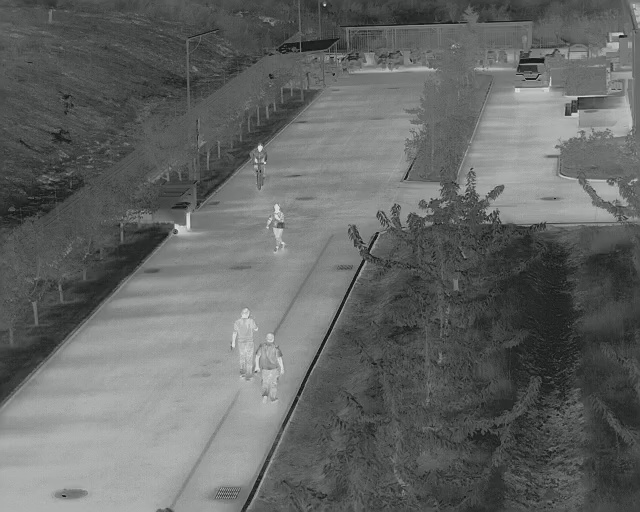NonMotorVehicle: (251, 143, 268, 191)
person: (231, 307, 256, 378), (260, 334, 282, 405), (268, 204, 285, 251)
vehicle: (516, 57, 550, 93)
